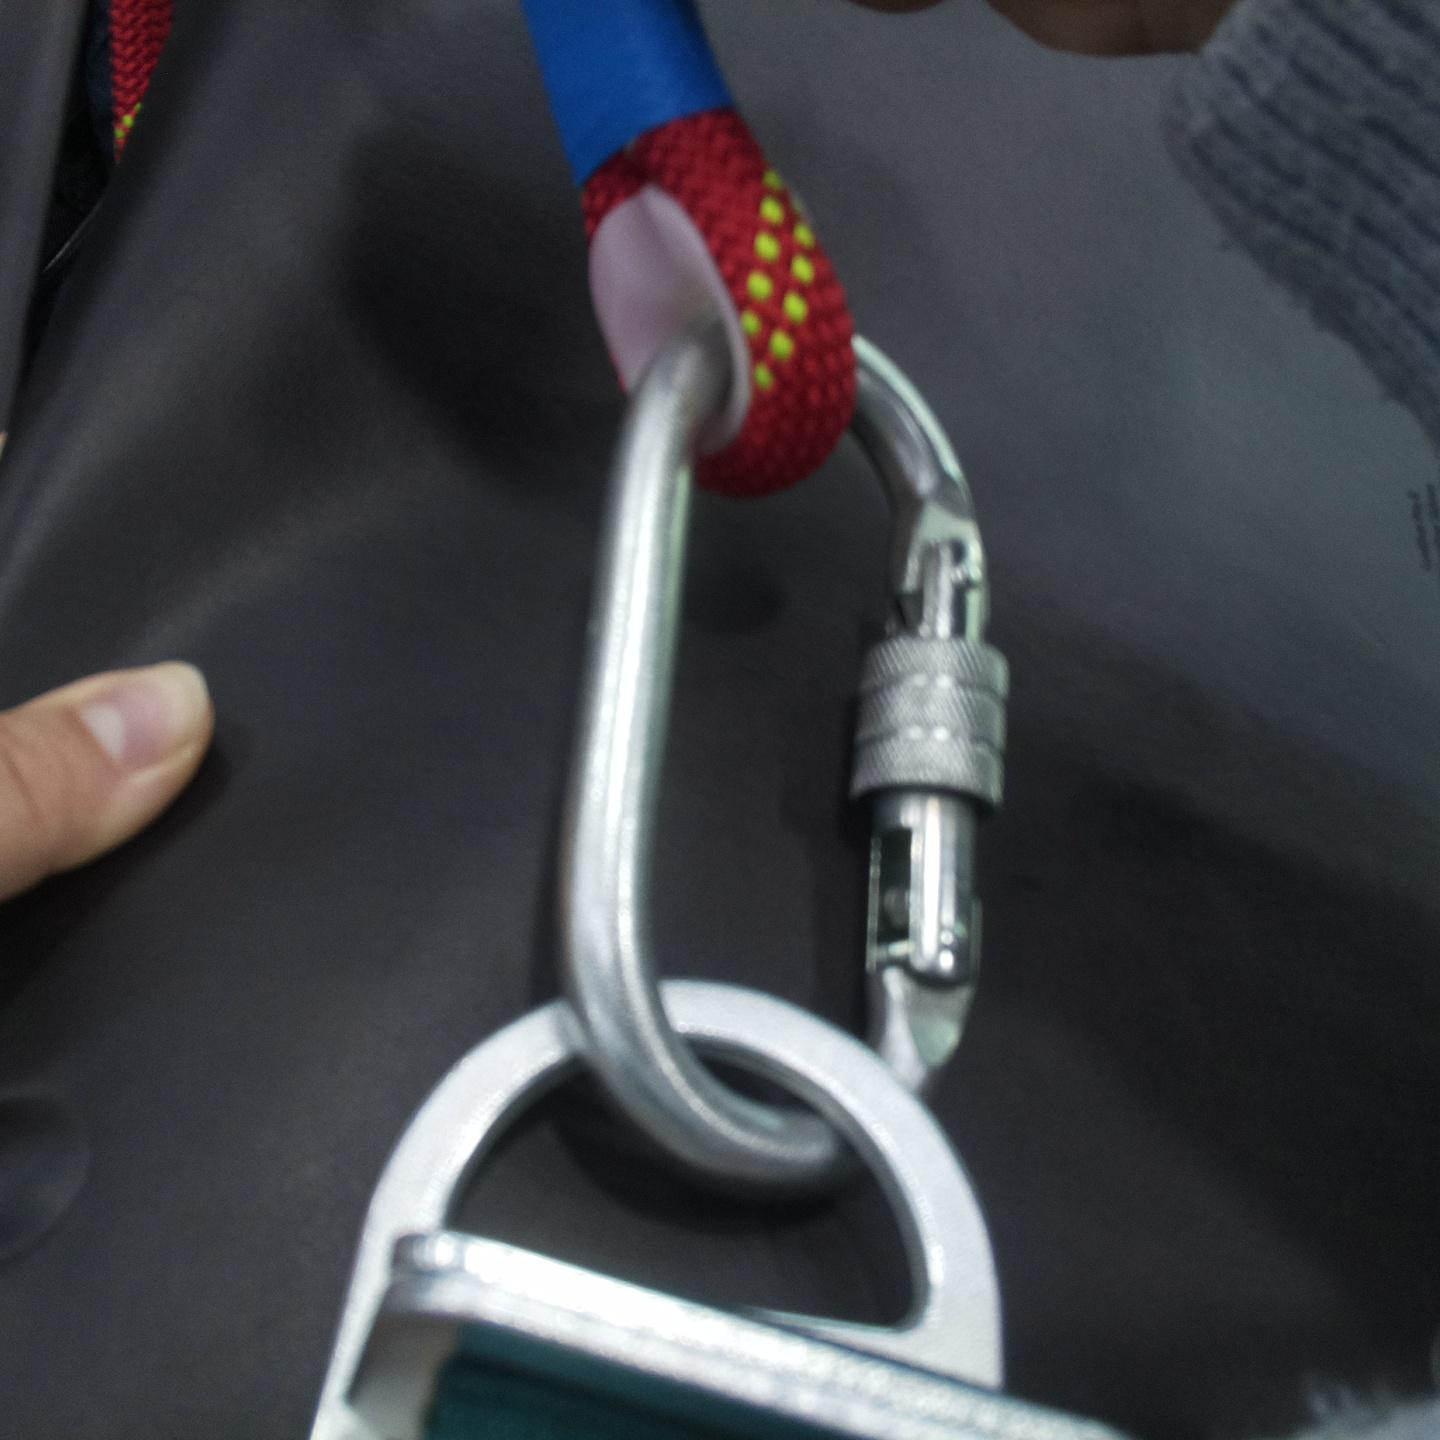SUCCESS: (313, 518, 1033, 1394)
